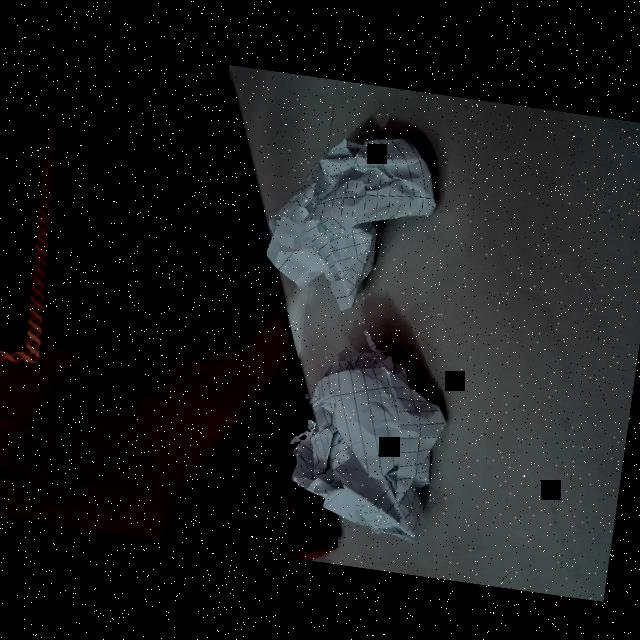scrap_paper: (260, 116, 446, 312), (282, 334, 452, 539)
